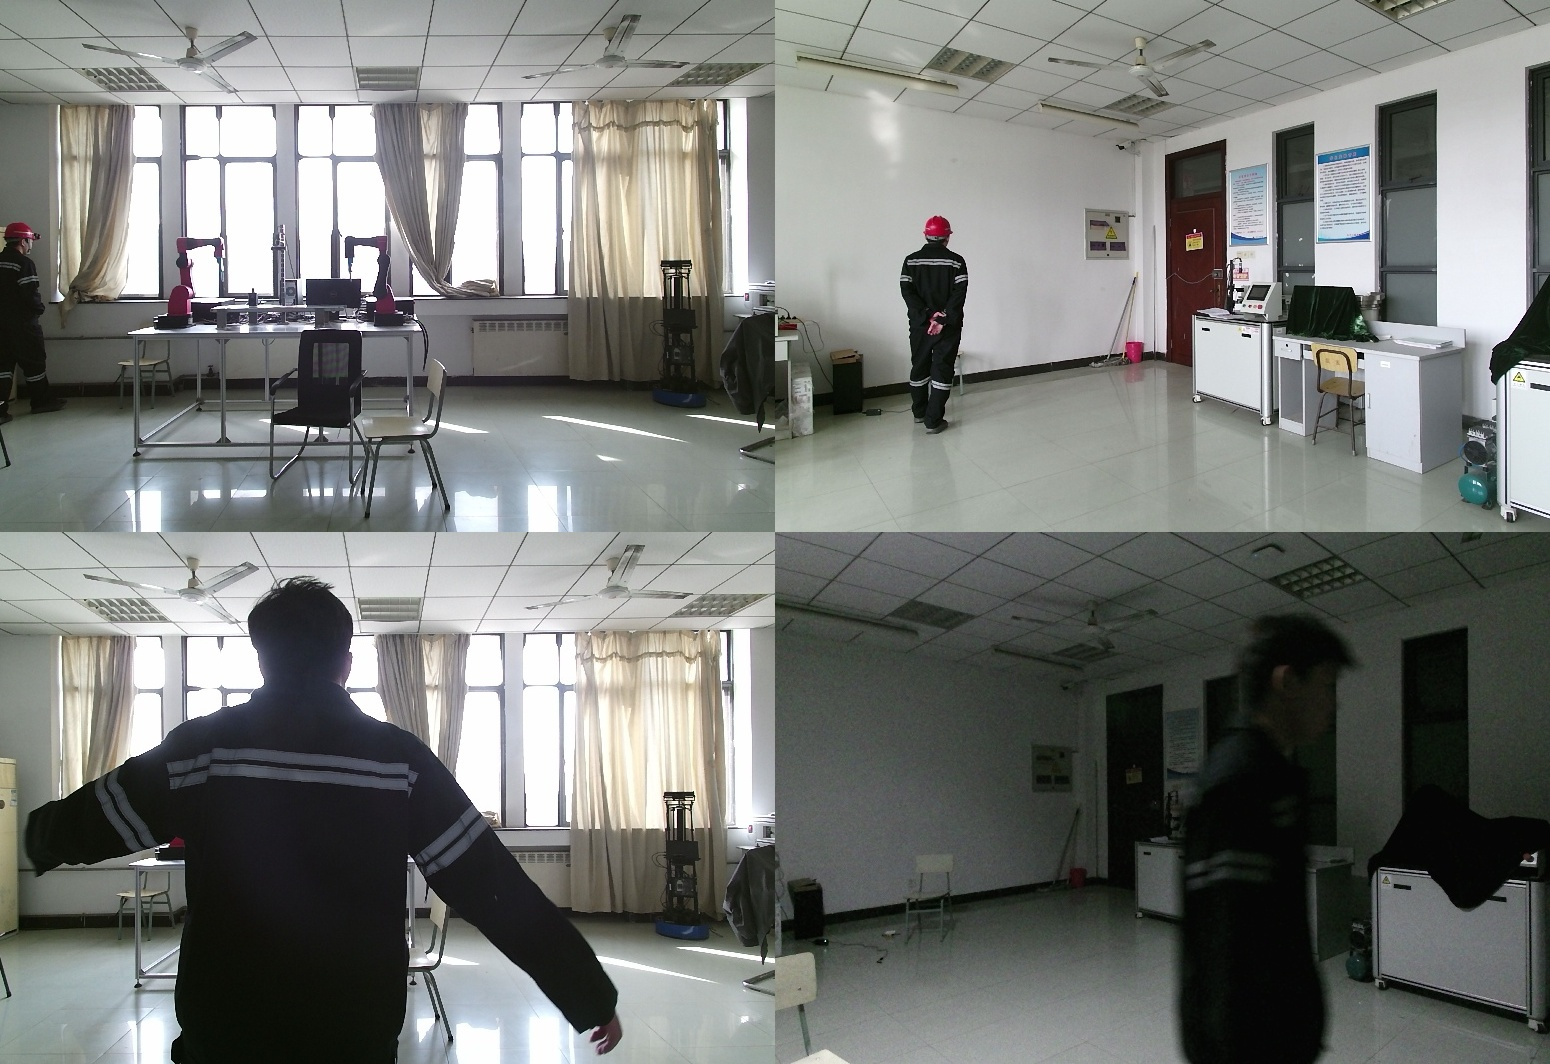person: (28, 583, 618, 1064), (1159, 606, 1349, 1064), (895, 216, 981, 438), (1, 224, 64, 416)
